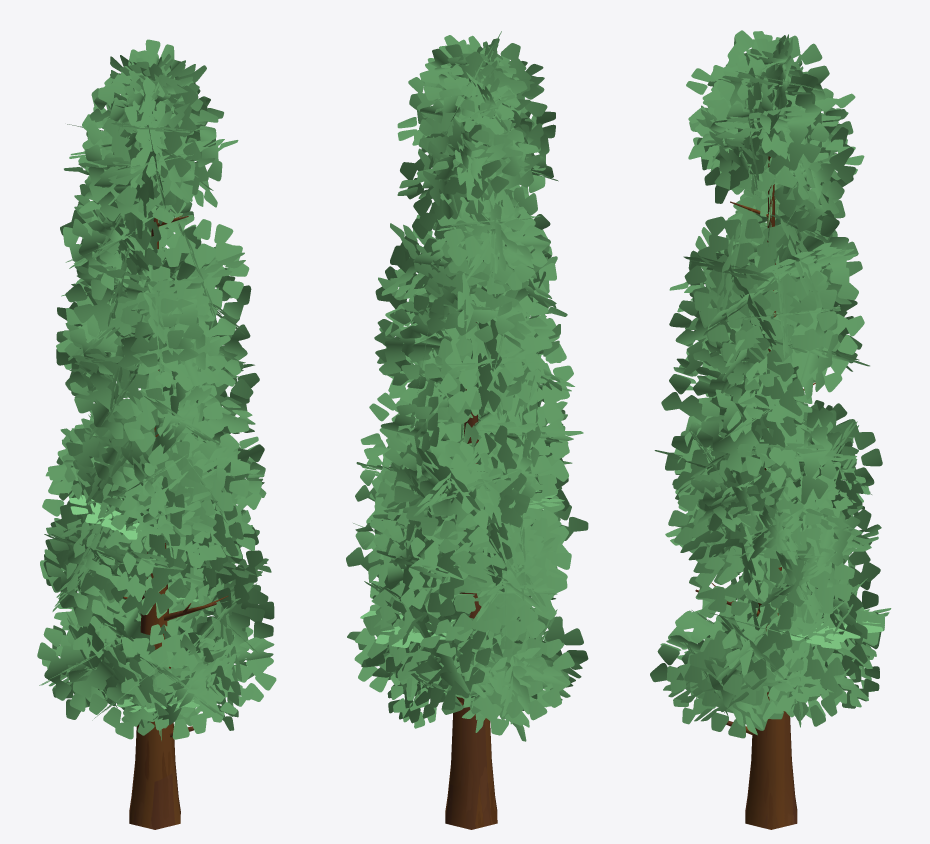
File: STColumnar1.glb
3 renders of one model, left to right at view 1: azimuth 30°, elevation 25°; view 2: azimuth 150°, elevation 25°; view 3: azimuth 270°, elevation 25°, orthographic.
Visible parts, largest first — view 1: VertTree1Leaves; view 2: VertTree1Leaves; view 3: VertTree1Leaves.
Boxes of the visible parts, left/top/right/bottom form: VertTree1Leaves: left=37, top=39, right=276, bottom=829; VertTree1Leaves: left=346, top=31, right=588, bottom=829; VertTree1Leaves: left=650, top=30, right=891, bottom=829.
Bounding box in the file's own units: 3.95 × 12.44 × 3.91.
2 materials, 2 textured.
